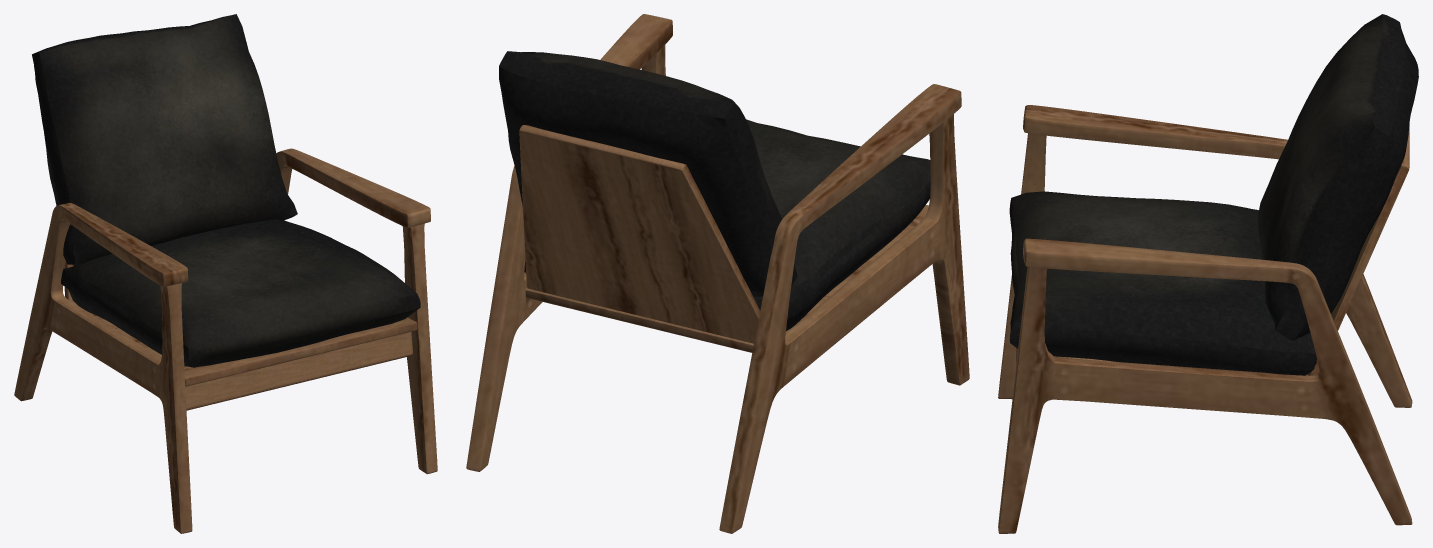
The model's file is ArmChairModern.obj.
3 views of the same model, side by side, from view 1: azimuth 30°, elevation 25°; view 2: azimuth 150°, elevation 25°; view 3: azimuth 270°, elevation 25° (orthographic). The views are drawn at different scales.
Visible parts, largest first — view 1: Cushions, Frame; view 2: Frame, Cushions; view 3: Cushions, Frame.
Part boxes in pixels (bbox=[...]): Cushions: bbox=[32, 14, 420, 367]; Frame: bbox=[14, 148, 437, 533]; Frame: bbox=[466, 14, 969, 533]; Cushions: bbox=[499, 51, 930, 330]; Cushions: bbox=[1009, 14, 1418, 375]; Frame: bbox=[998, 105, 1412, 533].
Size of the model in its own units: 0.8204 by 1.02 by 0.9866.
2 materials, 2 textured.
